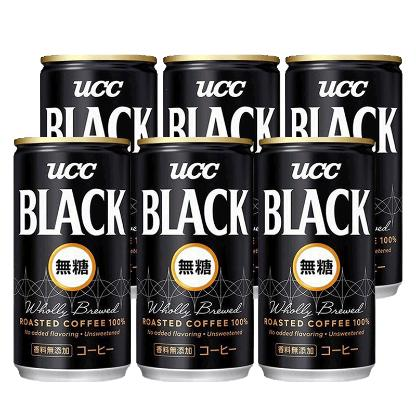Can: (136, 138, 254, 382), (14, 138, 130, 380), (258, 138, 374, 380)
